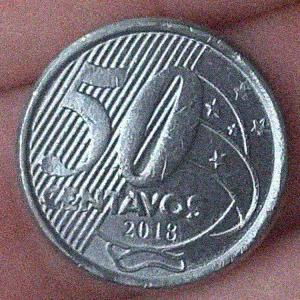50 cent: (17, 15, 288, 289)
